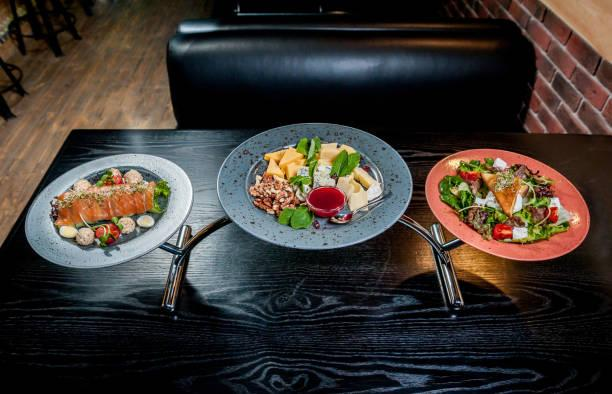Braised Crucian Carp: (216, 123, 411, 249), (24, 153, 192, 268), (423, 148, 589, 261)
